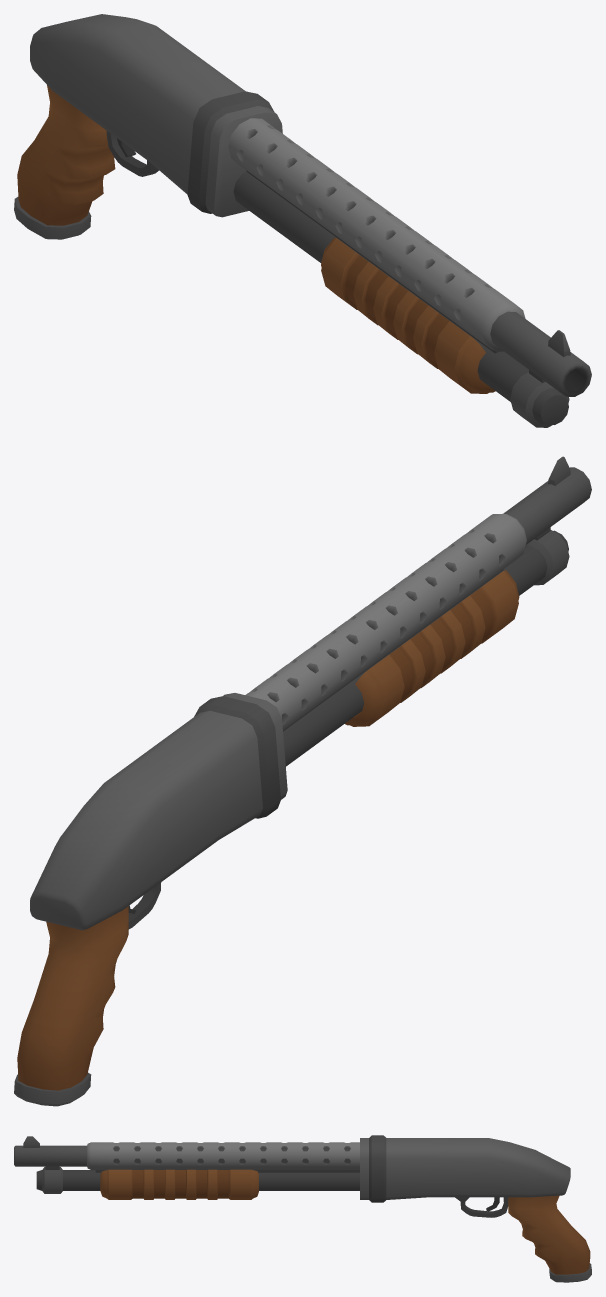
File: pumpgun.glb
The picture shows the model from 3 angles, top to bottom: view 1: azimuth 30°, elevation 25°; view 2: azimuth 150°, elevation 25°; view 3: azimuth 270°, elevation 25°; orthographic projection. The views are drawn at different scales.
Parts seen in each view (by area): view 1: PumpGun, Pump; view 2: PumpGun, Pump; view 3: PumpGun, Pump.
Boxes of the visible parts, x1,y1,x2,y2 form: PumpGun: [14, 14, 591, 427]; Pump: [321, 237, 495, 393]; PumpGun: [14, 456, 591, 1106]; Pump: [345, 570, 519, 726]; PumpGun: [14, 1135, 591, 1282]; Pump: [100, 1169, 258, 1199].
Size of the model in its own units: 0.0664 by 0.2045 by 0.7594.
Materials: 1 (1 with a texture image).
